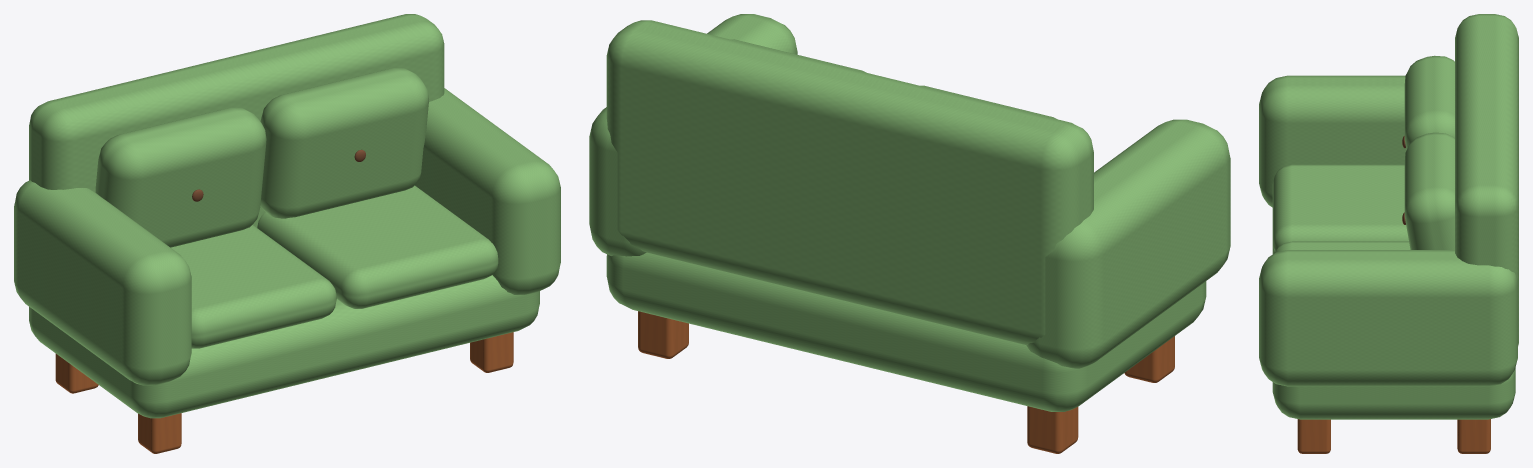
File: SOFA.glb
The picture shows the model from 3 angles, left to right: view 1: azimuth 30°, elevation 25°; view 2: azimuth 150°, elevation 25°; view 3: azimuth 270°, elevation 25°; orthographic projection. The views are drawn at different scales.
Parts seen in each view (by area): view 1: SOFA; view 2: SOFA; view 3: SOFA.
Part boxes in pixels (bbox=[...]): SOFA: bbox=[14, 14, 560, 453]; SOFA: bbox=[589, 14, 1230, 453]; SOFA: bbox=[1259, 14, 1518, 453].
Size of the model in its own units: 1.52 by 0.93 by 0.813.
4 materials, 3 textured.
